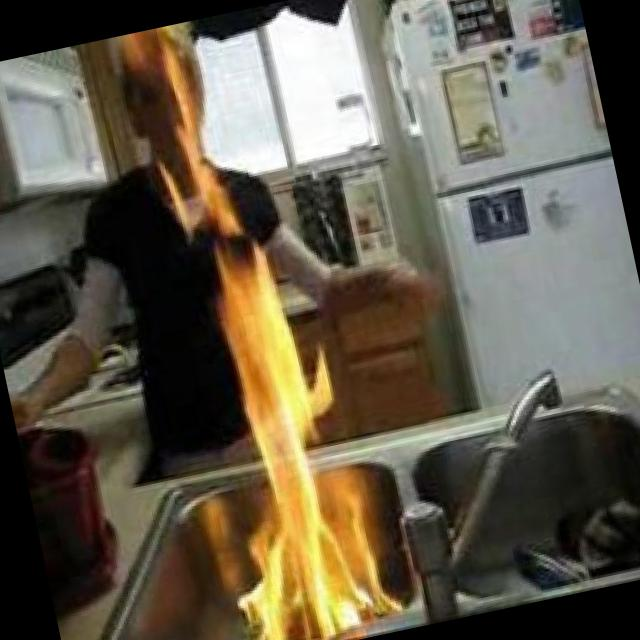Fire: (156, 175, 396, 640), (111, 22, 232, 200)
